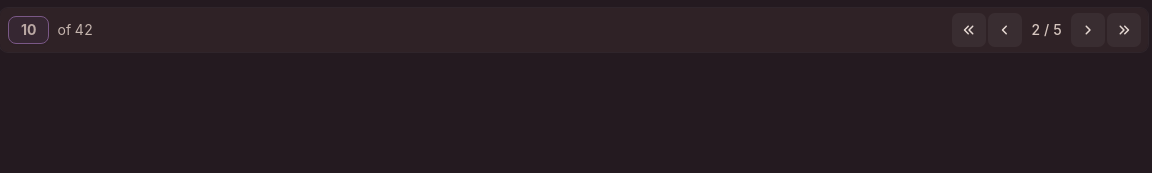
Test case: choosing how many entries to show › offers the page sizes the table supports
Click the button "10" at (29, 30), box [8,16,50,44]
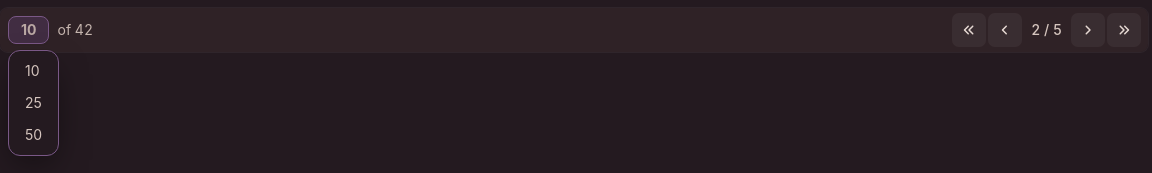
Result: the menu items read "10", "25", "50", in this order at [13,55,54,87]; [13,87,54,119]; [13,119,54,151]
